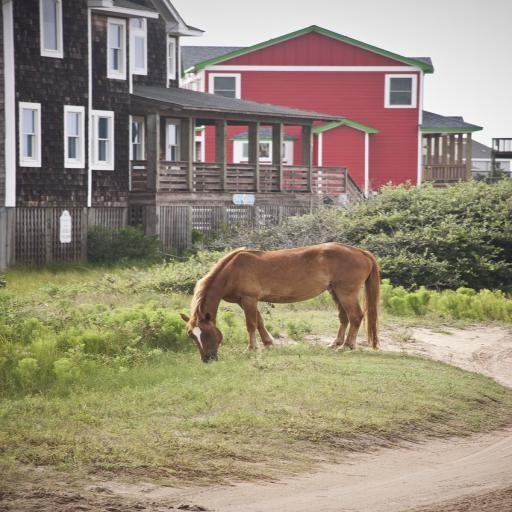horse: (180, 241, 380, 368)
